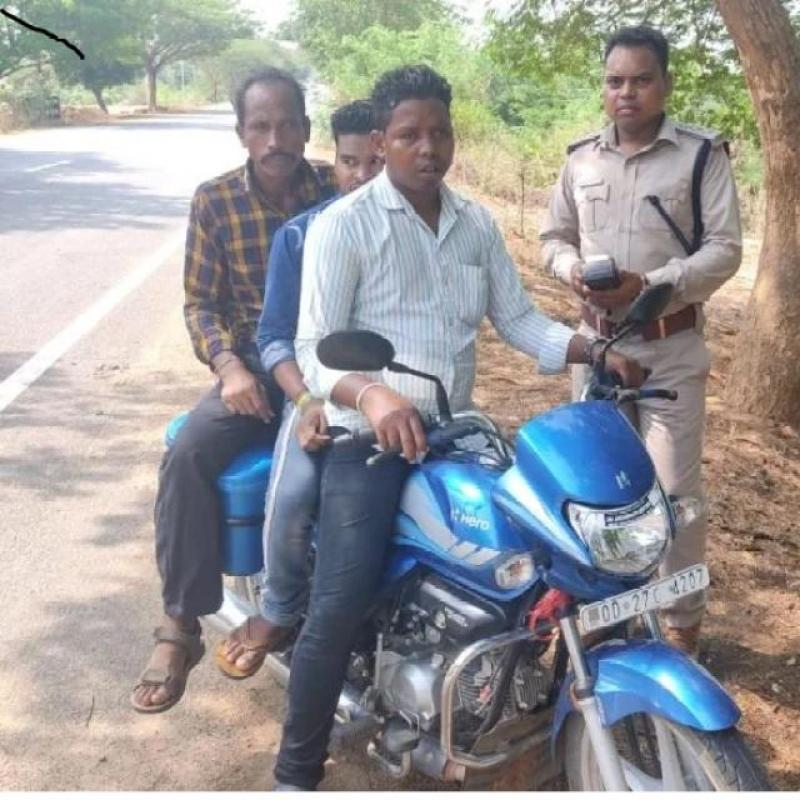nohelmet: (366, 54, 463, 195), (229, 63, 317, 188)
